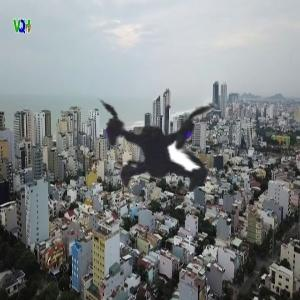drone: (27, 33, 280, 286)
